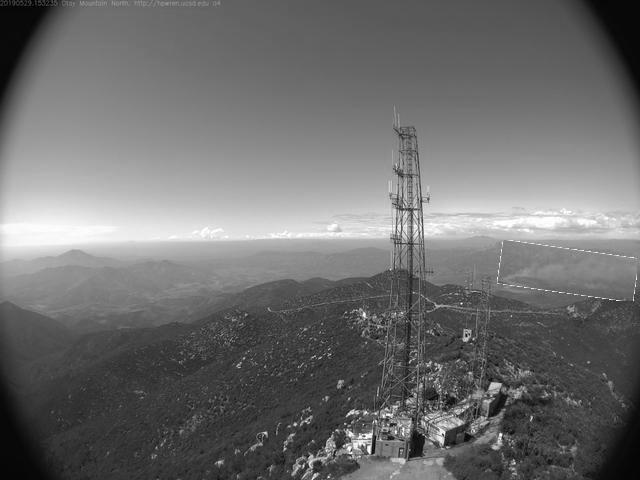smoke: (499, 246, 638, 299)
